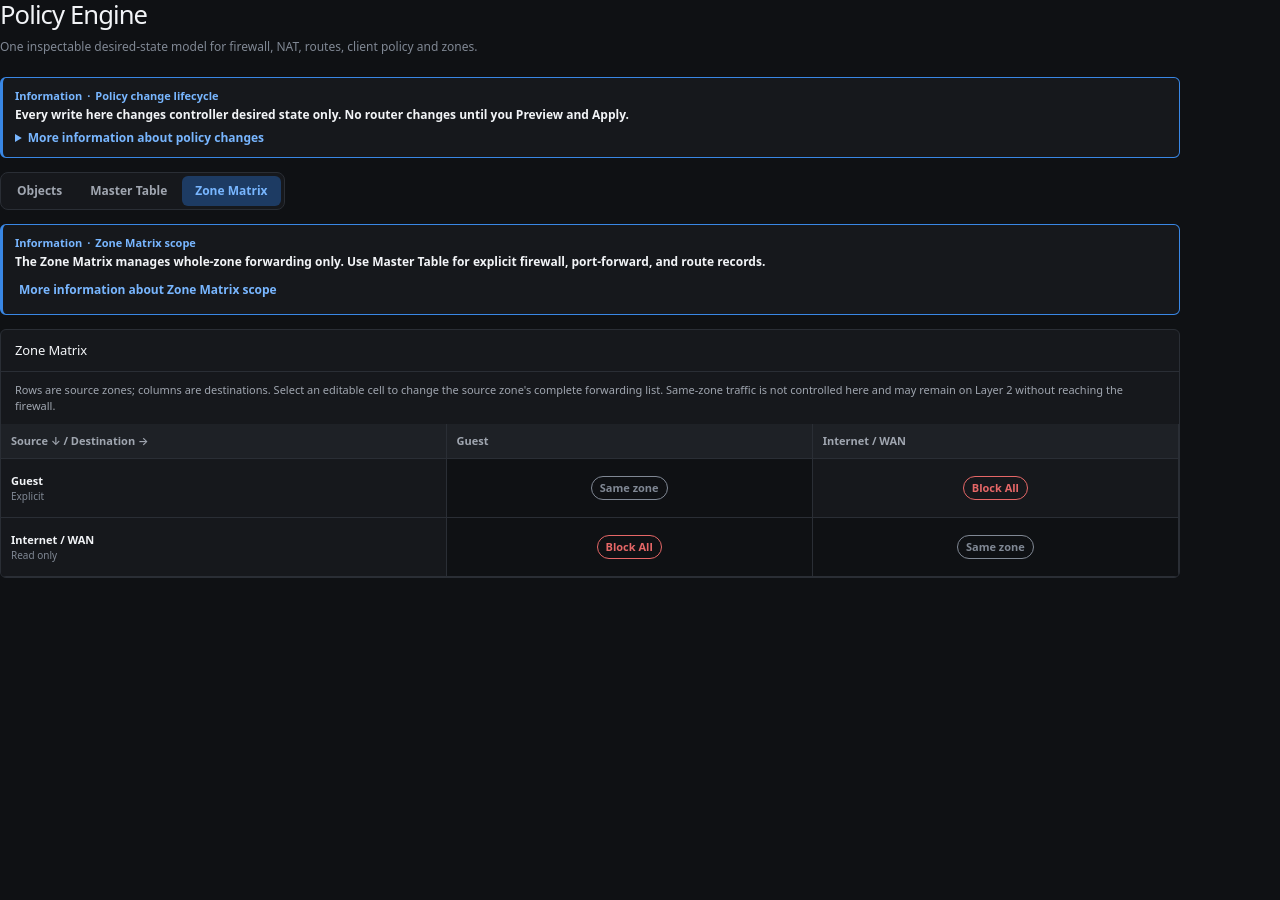
Test case: Policy Engine › keeps an explicit empty forwarding list distinct from the legacy default
This screenshot has width=1280, height=900.
Expected: the element named "Internet / WAN to Guest: Block All. Read only" is shown, [446,518,812,576]
Click the button with aria-label "Guest to Internet / WAN: Block All. Edit Guest policy" at (995,488), box [813,459,1178,517]
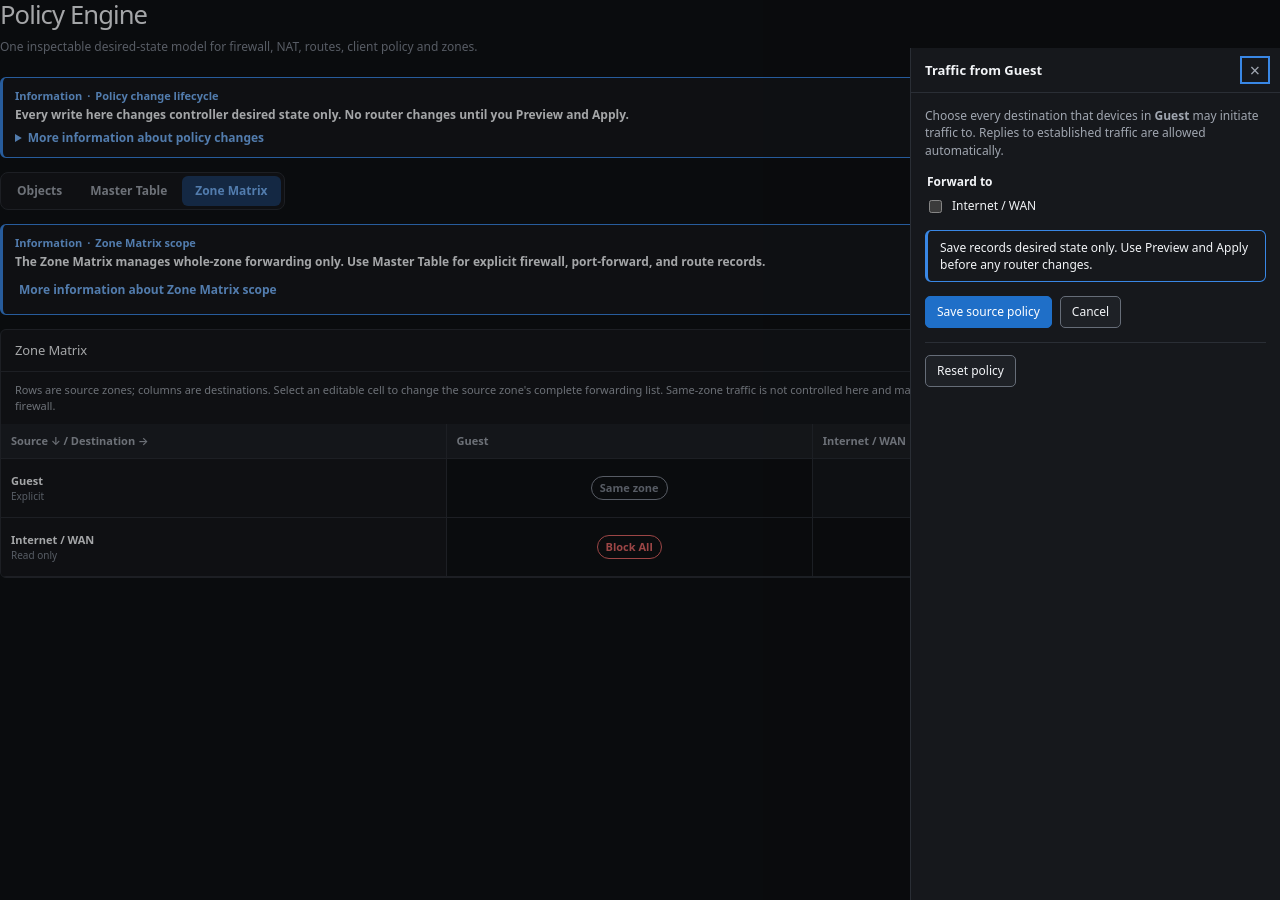
Expected: the checkbox labelled "Internet / WAN" is not checked, [929,200,942,213]
Expected: the button "Reset policy" is shown, [925,355,1016,387]
